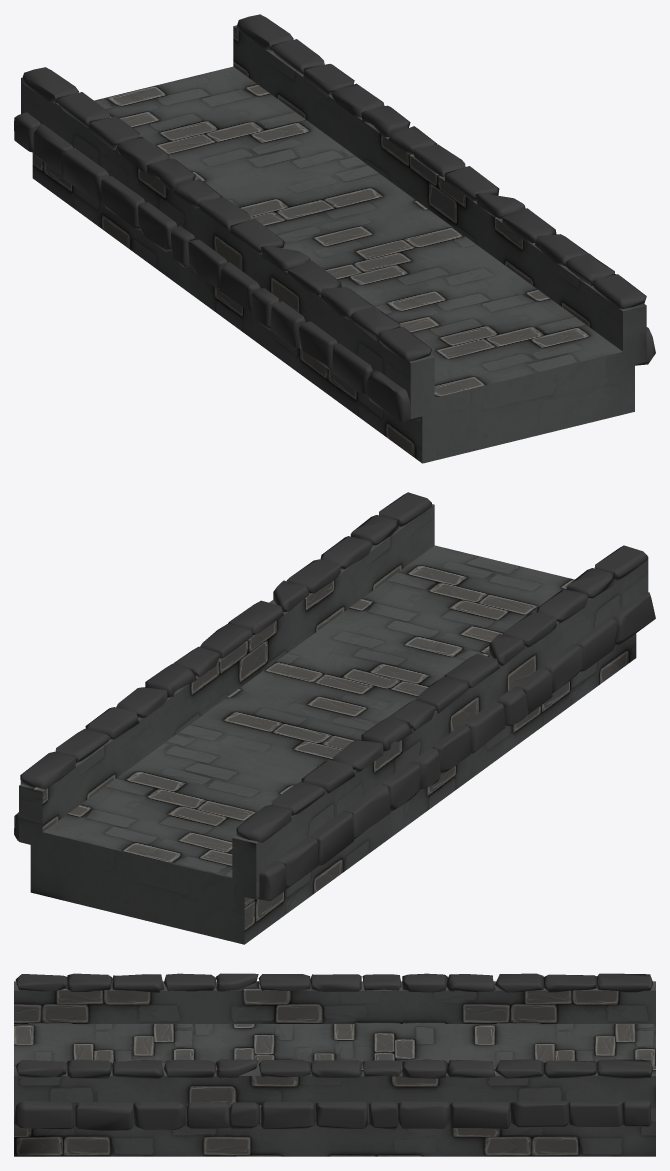
Rendered from SM_Bridge_02.FBX.
3 views of the same model, one above another, from view 1: azimuth 30°, elevation 25°; view 2: azimuth 150°, elevation 25°; view 3: azimuth 270°, elevation 25° (orthographic). The views are drawn at different scales.
Visible parts, largest first — view 1: SM_Bridge_02_LOD0; view 2: SM_Bridge_02_LOD0; view 3: SM_Bridge_02_LOD0.
Boxes of the visible parts, box(x1,y1,x2,y2) form: SM_Bridge_02_LOD0: box(14, 14, 655, 463); SM_Bridge_02_LOD0: box(14, 492, 655, 944); SM_Bridge_02_LOD0: box(14, 973, 655, 1156).
Size of the model in its own units: 548 by 1411 by 228.
